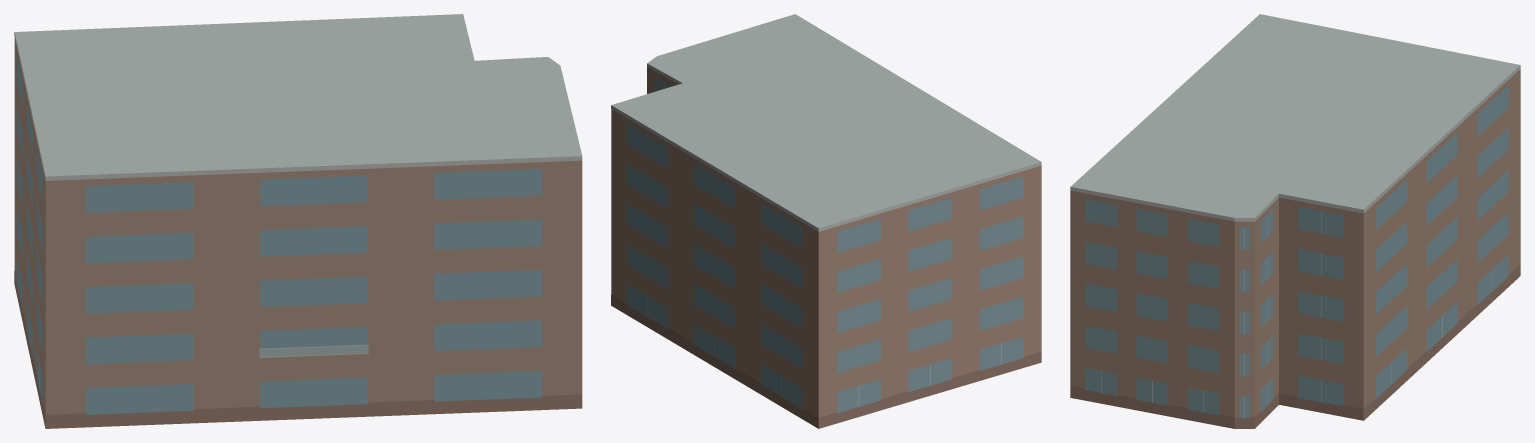
Rendered from survey-upis-32484388.glb.
3 renders of one model, left to right at view 1: azimuth 30°, elevation 25°; view 2: azimuth 150°, elevation 25°; view 3: azimuth 270°, elevation 25°, orthographic. The views are drawn at different scales.
Visible parts, largest first — view 1: survey-upis-32484388.tmp; view 2: survey-upis-32484388.tmp; view 3: survey-upis-32484388.tmp.
Boxes of the visible parts, box(x1,y1,x2,y2) form: survey-upis-32484388.tmp: box(14, 14, 582, 428); survey-upis-32484388.tmp: box(611, 14, 1041, 428); survey-upis-32484388.tmp: box(1070, 14, 1520, 428).
Bounding box in the file's own units: 28.72 × 13.85 × 26.79.
